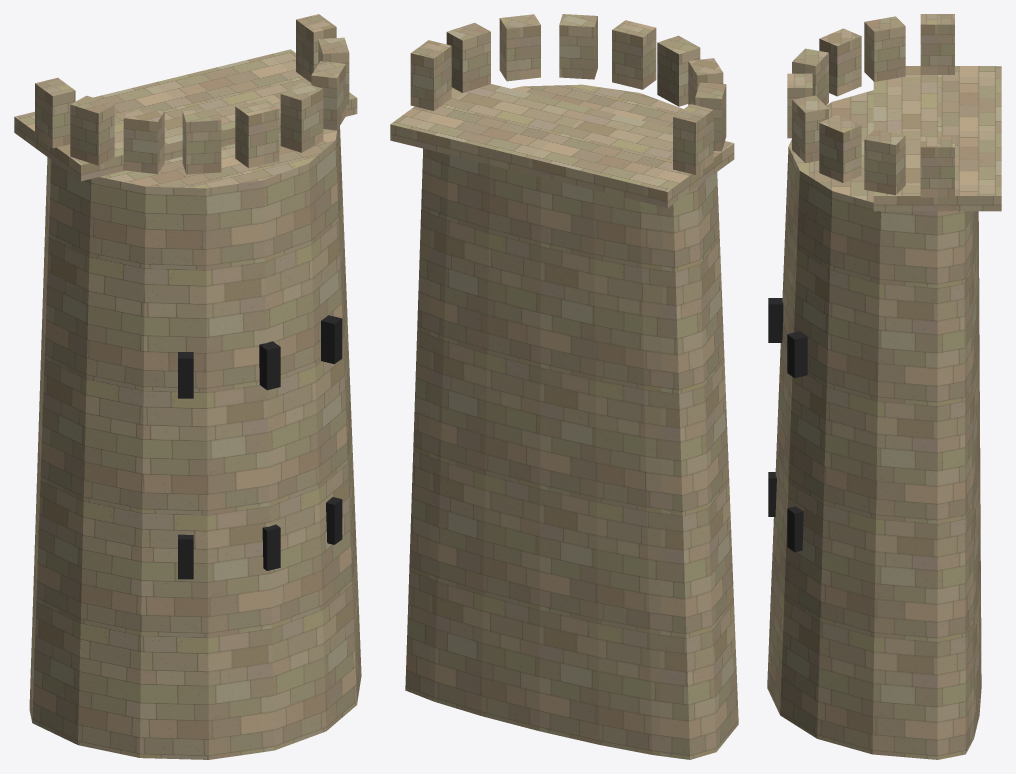
Rendered from derbent_wall_tower.glb.
3 views of the same model, side by side, from view 1: azimuth 30°, elevation 25°; view 2: azimuth 150°, elevation 25°; view 3: azimuth 270°, elevation 25° (orthographic). The views are drawn at different scales.
Parts seen in each view (by area): view 1: Derbent_Wall_Tower; view 2: Derbent_Wall_Tower; view 3: Derbent_Wall_Tower.
Boxes of the visible parts, x1,y1,x2,y2 form: Derbent_Wall_Tower: (14, 14, 361, 759); Derbent_Wall_Tower: (390, 14, 738, 759); Derbent_Wall_Tower: (767, 14, 1001, 759).
Bounding box in the file's own units: 8 × 15.7 × 5.5.
2 materials, 1 textured.
